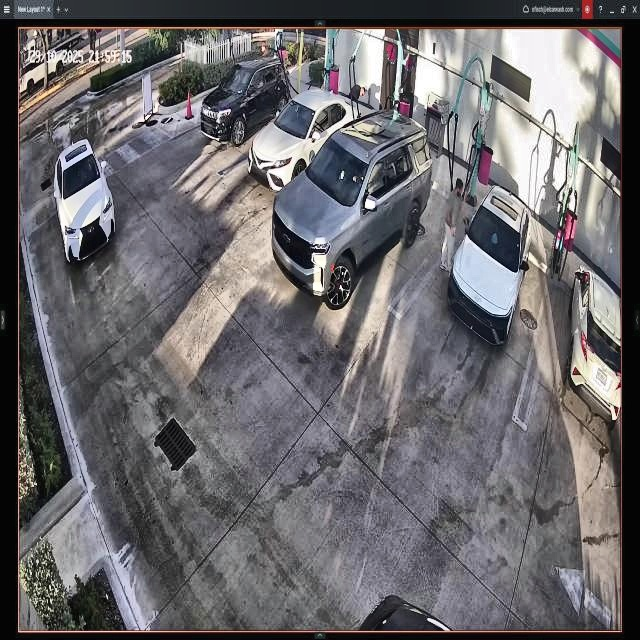Car: (272, 112, 432, 306), (448, 185, 531, 347), (250, 90, 360, 189), (202, 58, 288, 143)
